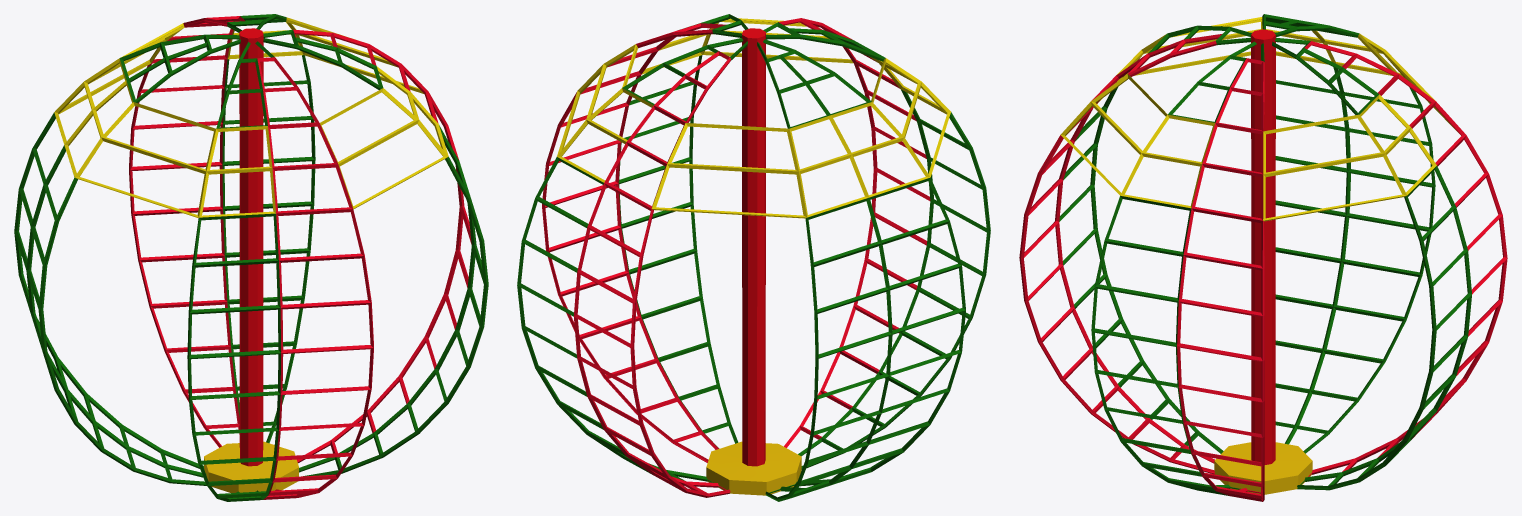
File: cookie_map_APARATOCIRCULO.fbx
3 views of the same model, side by side, from view 1: azimuth 30°, elevation 25°; view 2: azimuth 150°, elevation 25°; view 3: azimuth 270°, elevation 25° (orthographic).
Visible parts, largest first — view 1: APARATOCIRCULO; view 2: APARATOCIRCULO; view 3: APARATOCIRCULO.
Part boxes in pixels (left/top/right/bottom): APARATOCIRCULO: left=14, top=14, right=488, bottom=501; APARATOCIRCULO: left=517, top=14, right=990, bottom=501; APARATOCIRCULO: left=1019, top=14, right=1507, bottom=501.
Bounding box in the file's own units: 40.4 × 40.22 × 40.4.
